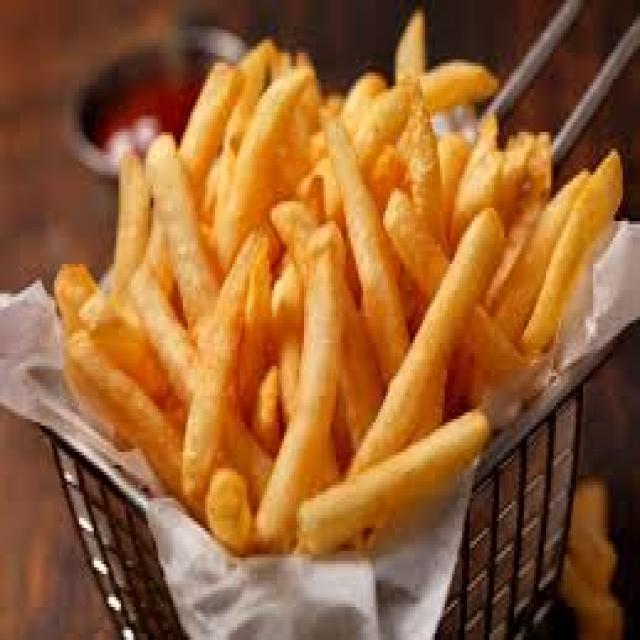fries: (65, 17, 551, 501)
